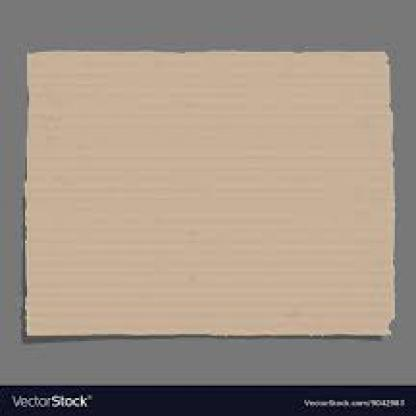CARDBOARD: (19, 49, 395, 338)
